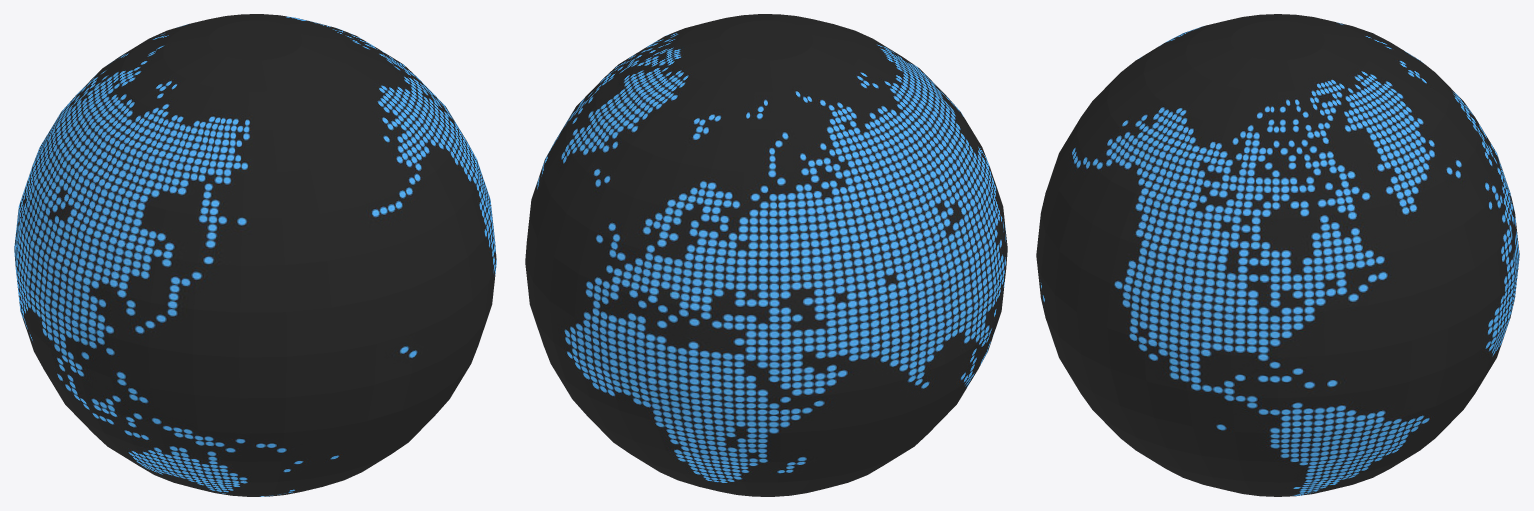
The model's file is glob.glb.
The picture shows the model from 3 angles, left to right: view 1: azimuth 30°, elevation 25°; view 2: azimuth 150°, elevation 25°; view 3: azimuth 270°, elevation 25°; orthographic projection.
Visible parts, largest first — view 1: Sphere; view 2: Sphere; view 3: Sphere.
Part boxes in pixels (x1=…): Sphere: x1=14, y1=14, x2=496, y2=496; Sphere: x1=525, y1=14, x2=1007, y2=496; Sphere: x1=1036, y1=14, x2=1519, y2=496.
Bounding box in the file's own units: 2 × 1.99 × 2.
Materials: 1 (1 with a texture image).
